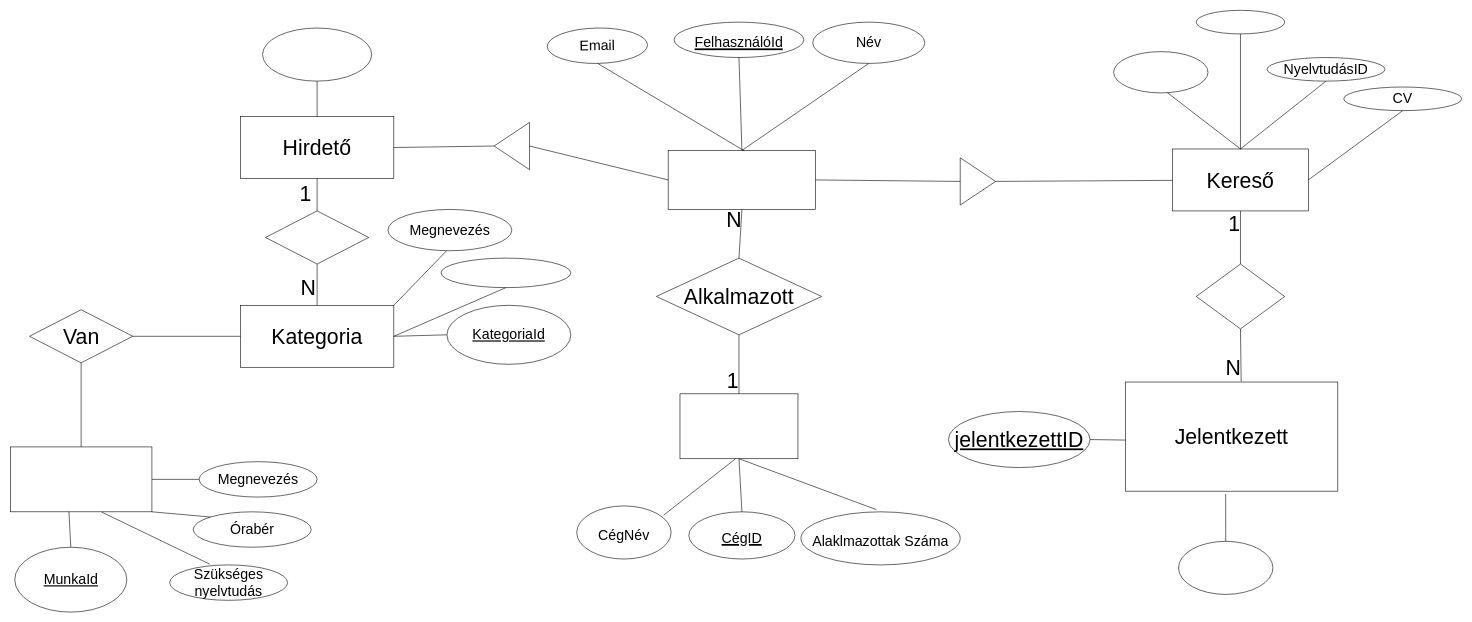
Image size: 1472x622. Some labels were removed from this diagram. Here are the shapes that lost their labels. From the top down, the centre of each, then its label:
point (1240, 22): Születési idő
point (317, 54): HirdetőId
point (1160, 72): Végezetség
point (742, 179): Felhasználó
point (317, 237): Hirdet
point (505, 273): Állások száma
point (1240, 296): Relationship
point (738, 426): Cég
point (81, 479): Munka
point (1225, 567): Mikor
